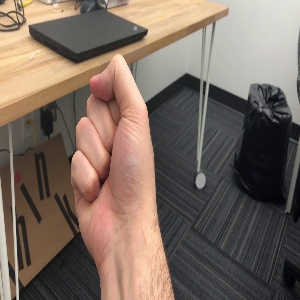hand: (71, 52, 153, 233)
